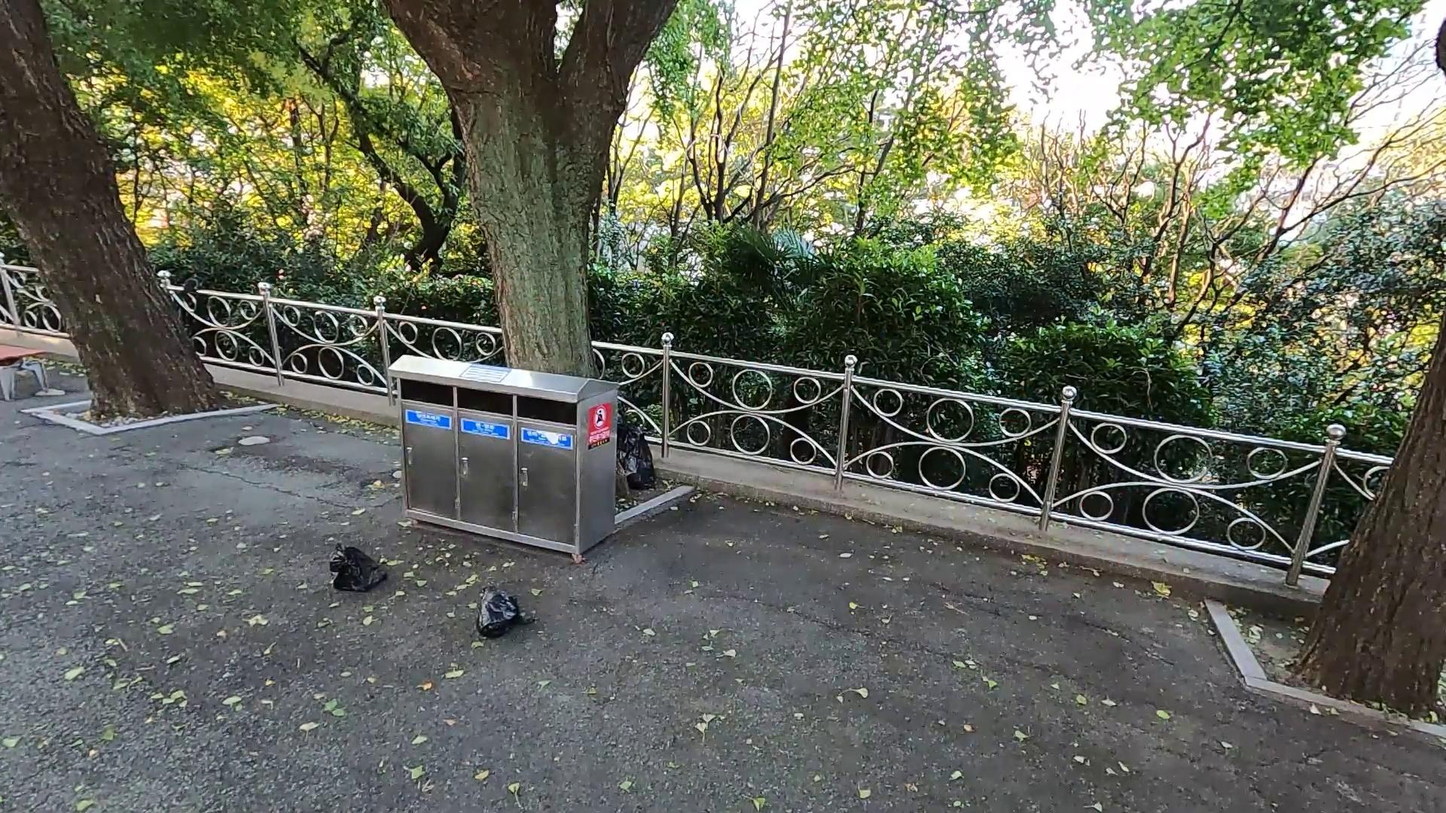trash: (326, 538, 394, 609), (473, 579, 534, 648), (621, 413, 662, 493)
